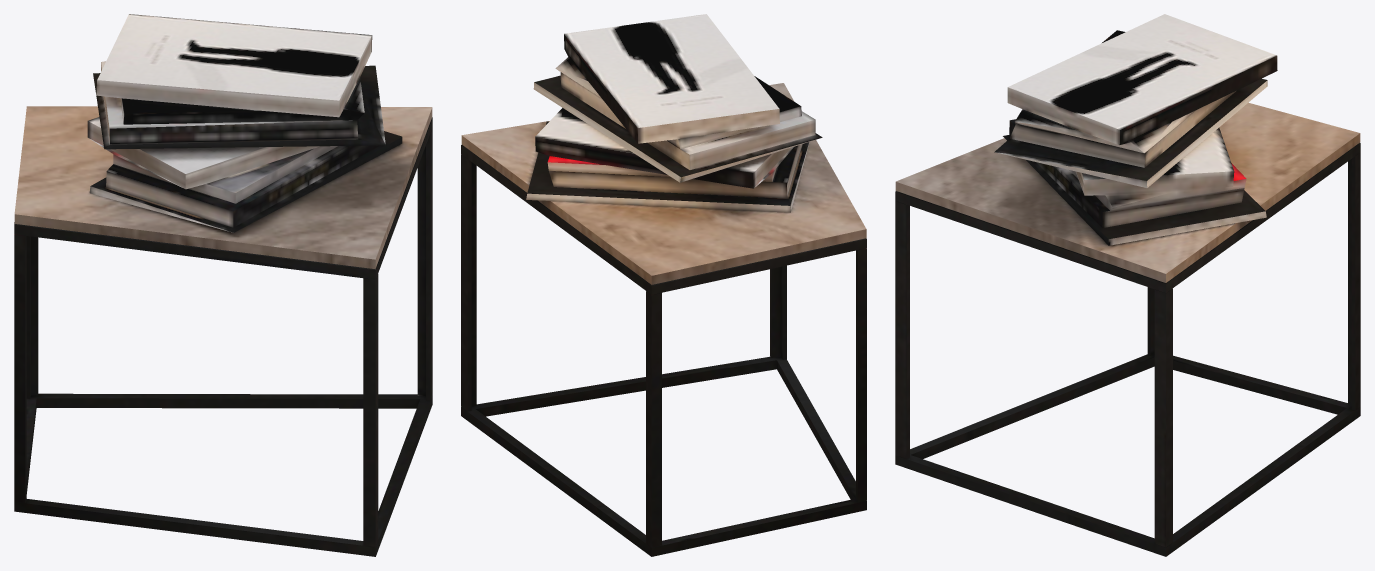
File: bed_table_4.glb
3 views of the same model, side by side, from view 1: azimuth 30°, elevation 25°; view 2: azimuth 150°, elevation 25°; view 3: azimuth 270°, elevation 25° (orthographic). The views are drawn at different scales.
Visible parts, largest first — view 1: bedTable4; view 2: bedTable4; view 3: bedTable4.
Boxes of the visible parts, box(x1,y1,x2,y2) form: bedTable4: box(14, 14, 432, 556); bedTable4: box(461, 14, 866, 556); bedTable4: box(895, 14, 1360, 556).
Size of what is drawn, in the model's own units: 0.5031 by 0.462 by 0.5028.
1 material, 1 textured.
